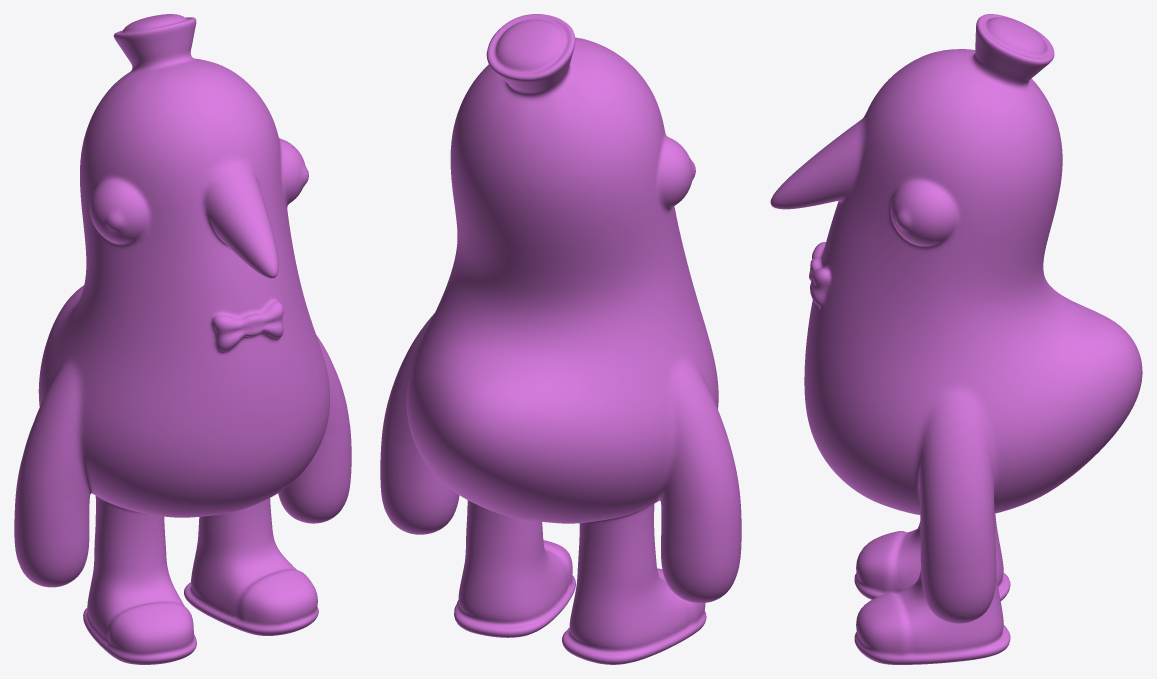
Rendered from housebirdPink.glb.
The picture shows the model from 3 angles, left to right: view 1: azimuth 30°, elevation 25°; view 2: azimuth 150°, elevation 25°; view 3: azimuth 270°, elevation 25°; orthographic projection. The views are drawn at different scales.
Visible parts, largest first — view 1: Low Res Bird; view 2: Low Res Bird; view 3: Low Res Bird.
Part boxes in pixels (x1,y1,x2,y2): Low Res Bird: [14, 14, 351, 664]; Low Res Bird: [380, 14, 741, 664]; Low Res Bird: [770, 14, 1142, 664].
Bounding box in the file's own units: 0.5954 × 1.02 × 0.5754.
